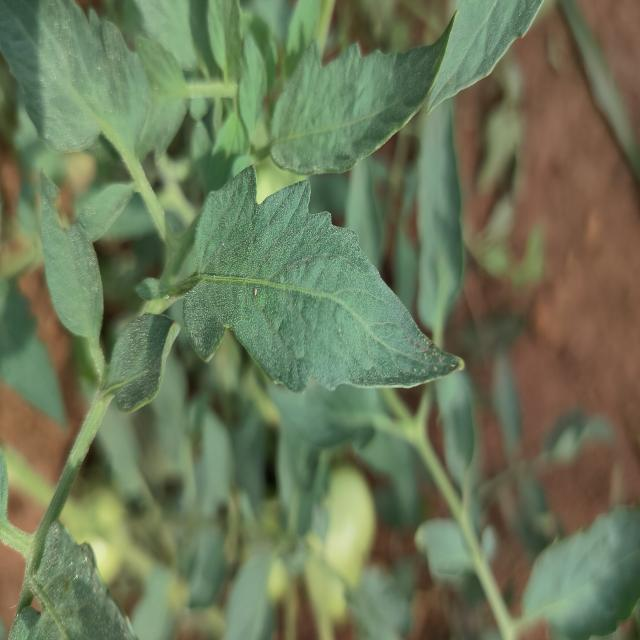tomato_healthy: (171, 160, 470, 404)
